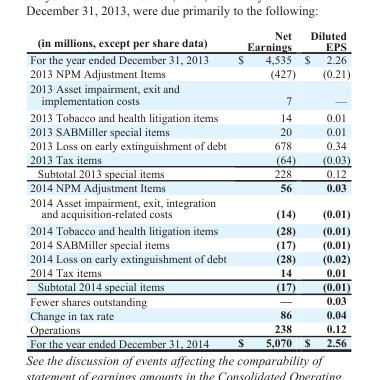table: (29, 28, 349, 349)
table column: (29, 28, 231, 349), (231, 28, 299, 349), (299, 28, 349, 349)
table column header: (29, 28, 349, 52)
table row: (29, 80, 349, 108), (29, 194, 349, 221), (29, 28, 349, 52), (29, 221, 349, 237), (29, 108, 349, 123), (29, 179, 349, 194), (29, 52, 349, 66), (29, 66, 349, 80), (29, 123, 349, 137), (29, 137, 349, 151), (29, 151, 349, 165), (29, 165, 349, 179), (29, 237, 349, 251), (29, 251, 349, 265), (29, 265, 349, 279), (29, 279, 349, 293), (29, 293, 349, 307), (29, 307, 349, 321), (29, 321, 349, 335), (29, 335, 349, 349)
